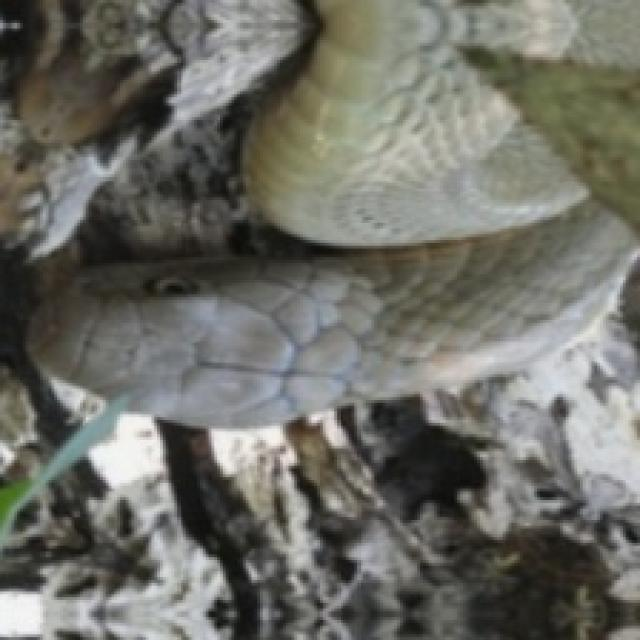king cobra: (0, 0, 634, 423)
